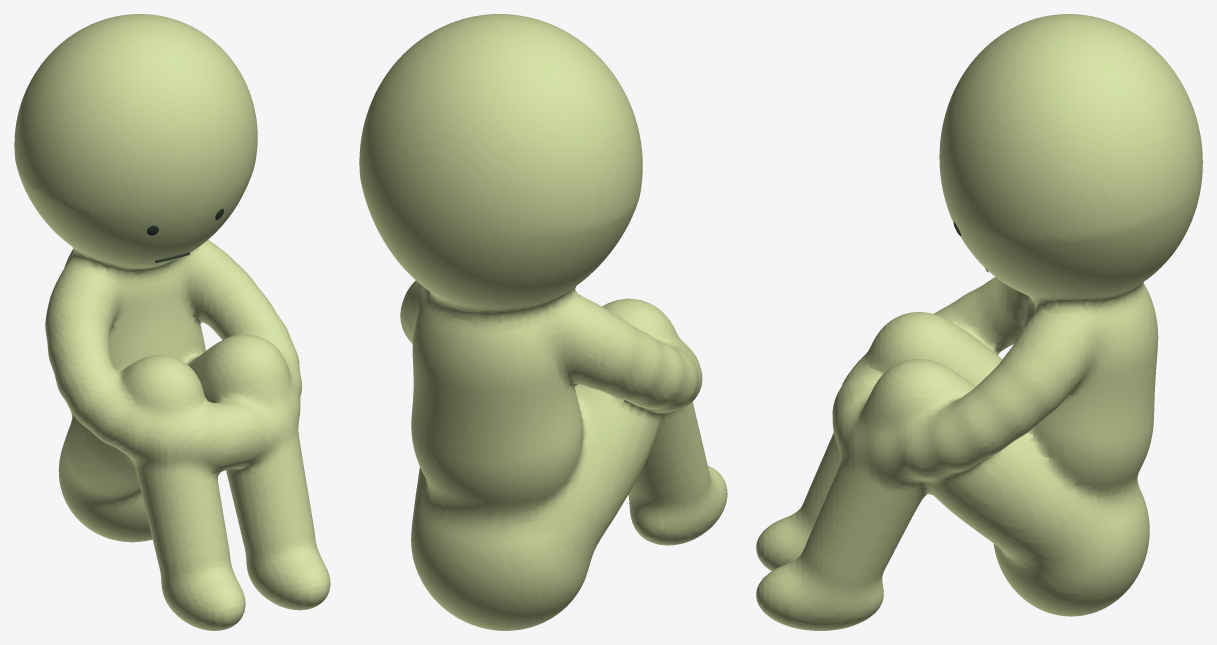
File: smiski-hugging-knees-study.glb
The picture shows the model from 3 angles, left to right: view 1: azimuth 30°, elevation 25°; view 2: azimuth 150°, elevation 25°; view 3: azimuth 270°, elevation 25°; orthographic projection. The views are drawn at different scales.
Parts seen in each view (by area): view 1: Continuous sculpt; view 2: Continuous sculpt; view 3: Continuous sculpt.
Boxes of the visible parts, x1,y1,x2,y2 form: Continuous sculpt: (14, 14, 330, 630); Continuous sculpt: (359, 14, 727, 630); Continuous sculpt: (756, 14, 1202, 630).
Bounding box in the file's own units: 0.7677 × 1.66 × 1.16.
